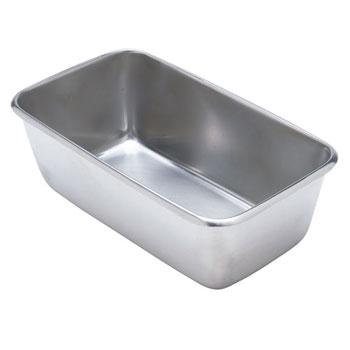Catheter Tray: (11, 44, 342, 293)
